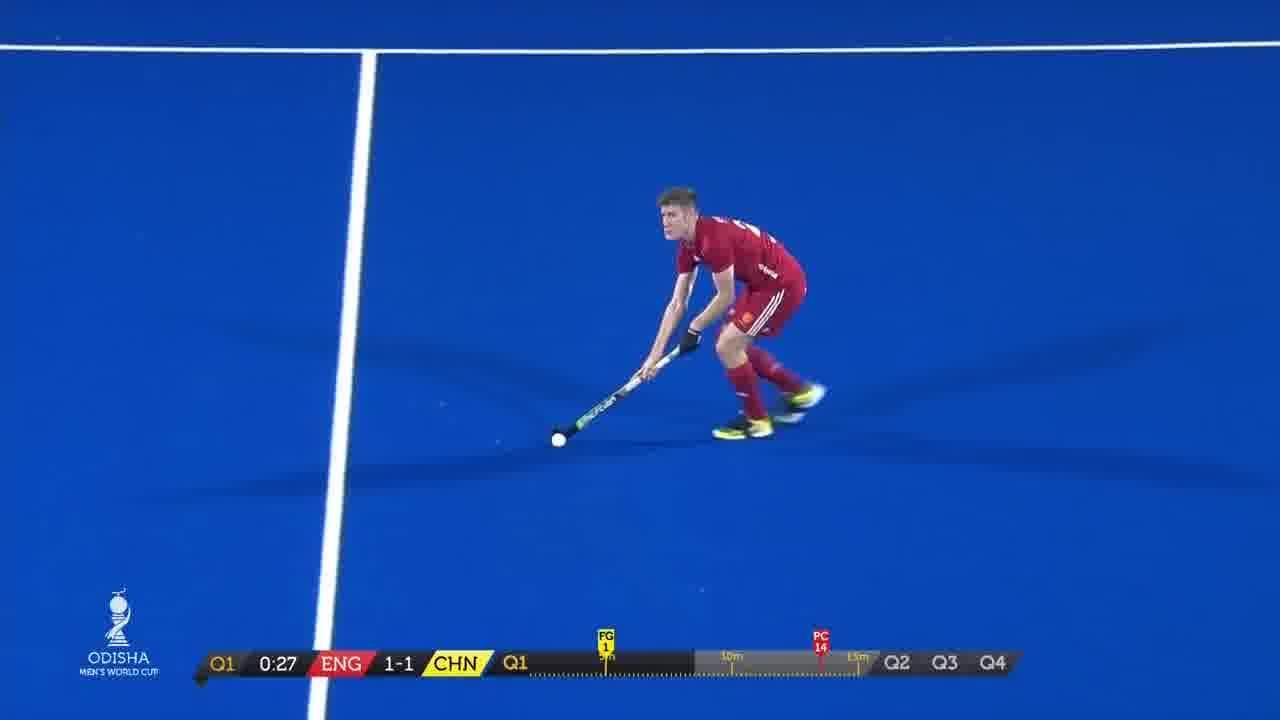ball: (548, 415, 579, 458)
